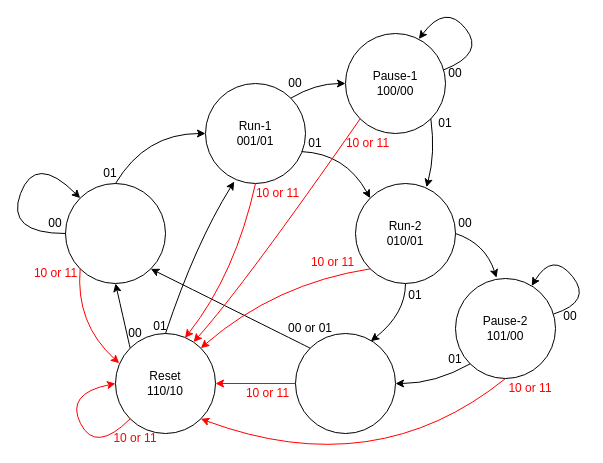
This 603x463 diagram has some shape labels left out. Here are the shapes that lost their labels. From the top down, the centre of each, then its label:
At [115,233]: "Pause 000/00".
At [345,383]: "Run-3 011/01".
